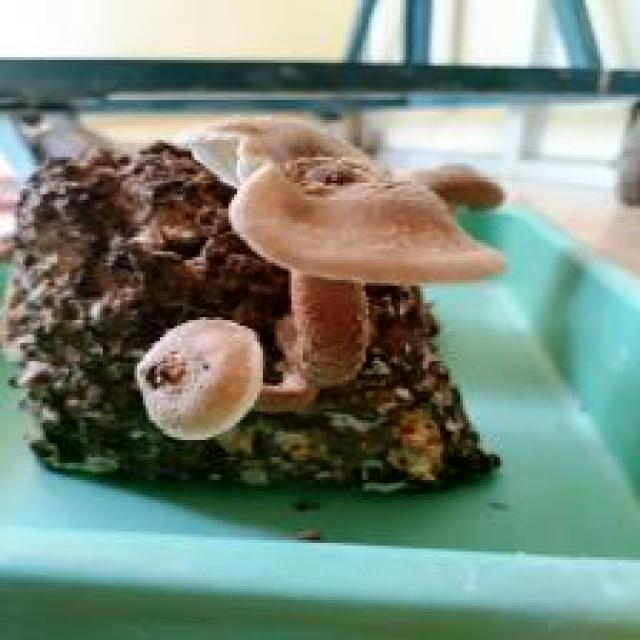chanterelle: (0, 111, 509, 492)
